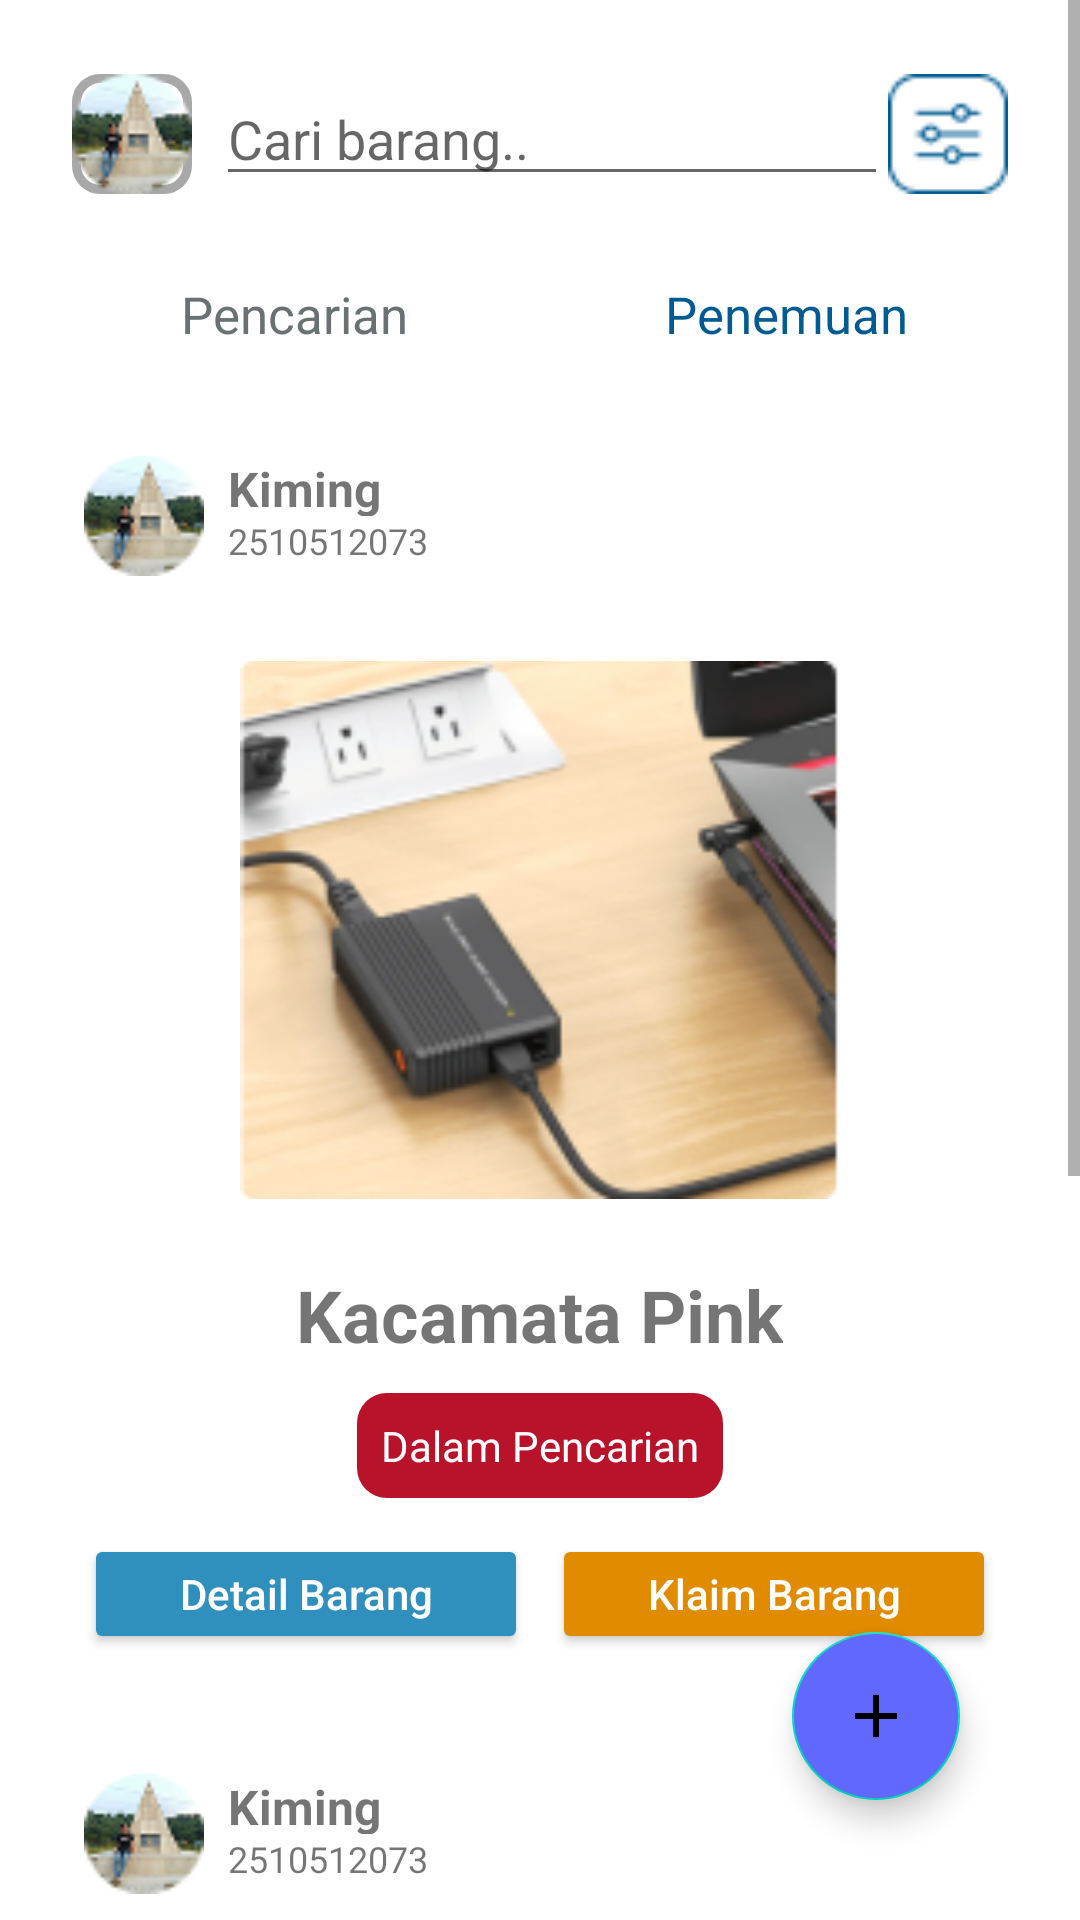

Icon click points for this 1080px×1920px phone screenshot, format (x,y):
filter: (948,134)
Tambah: (876,1716)
